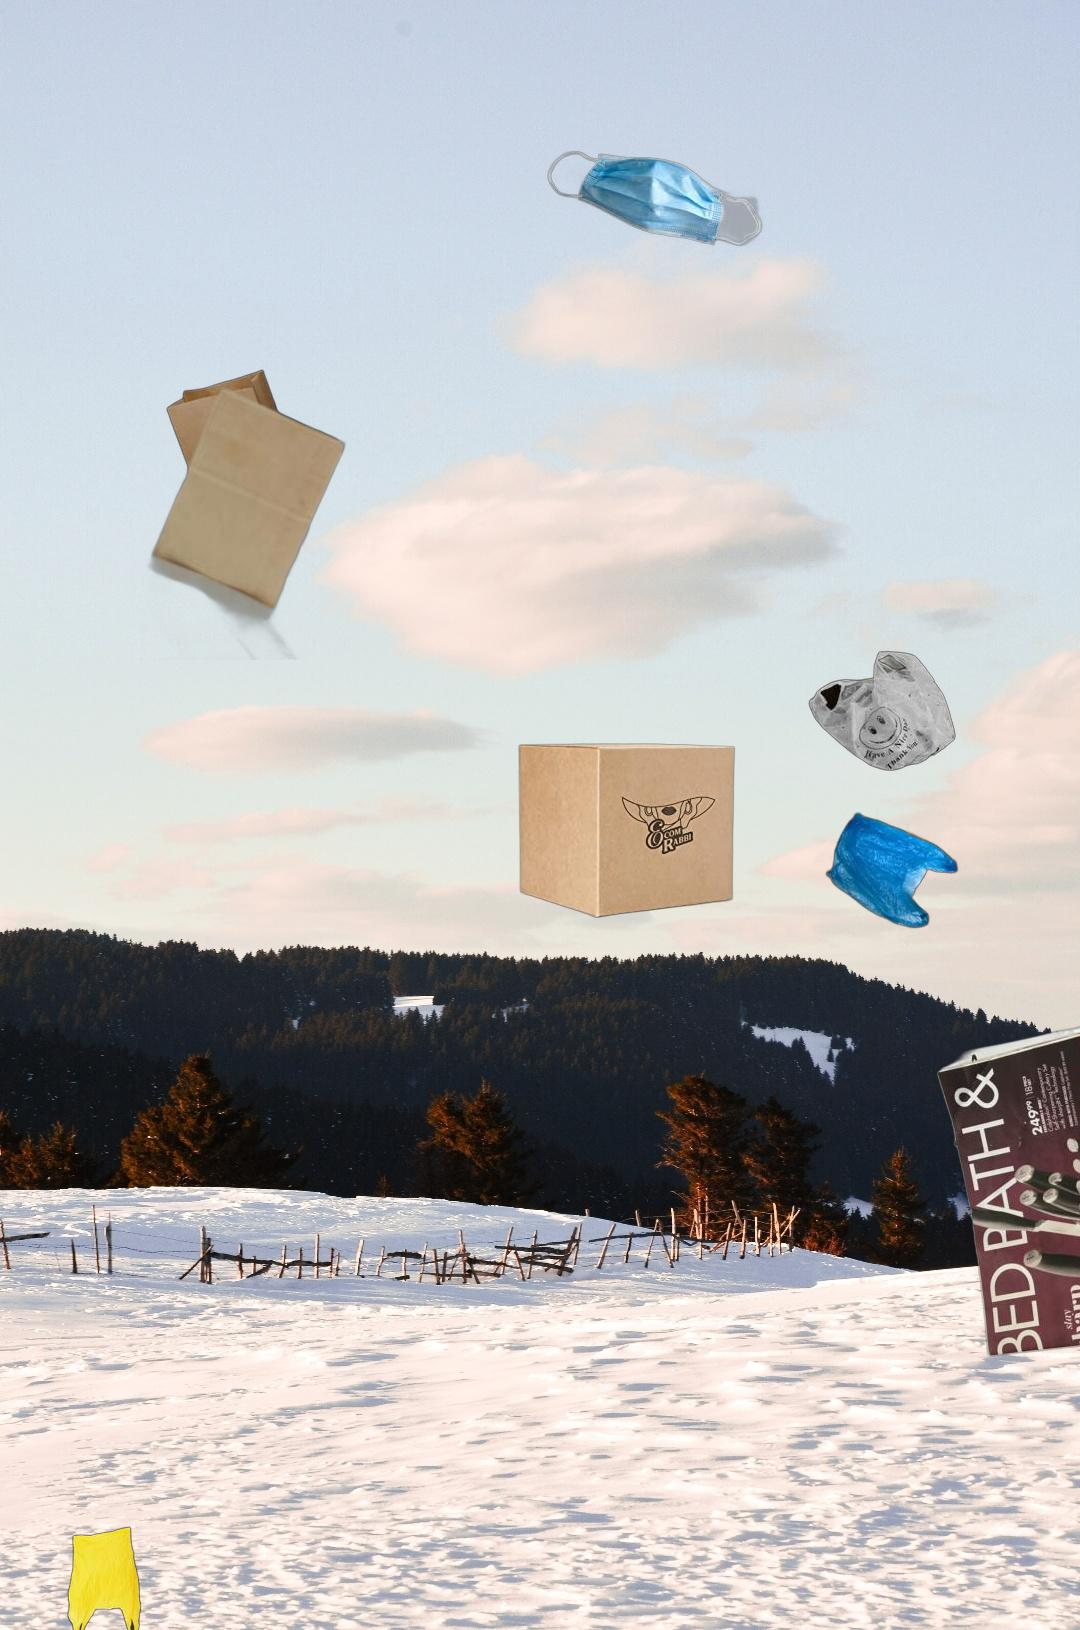paper: (932, 994, 1080, 1359)
paper-bag: (141, 367, 441, 660)
plastic-bag: (806, 648, 961, 930), (65, 1524, 143, 1630)
trash: (545, 148, 765, 248)
trashbox-cardboard: (517, 742, 736, 920)
